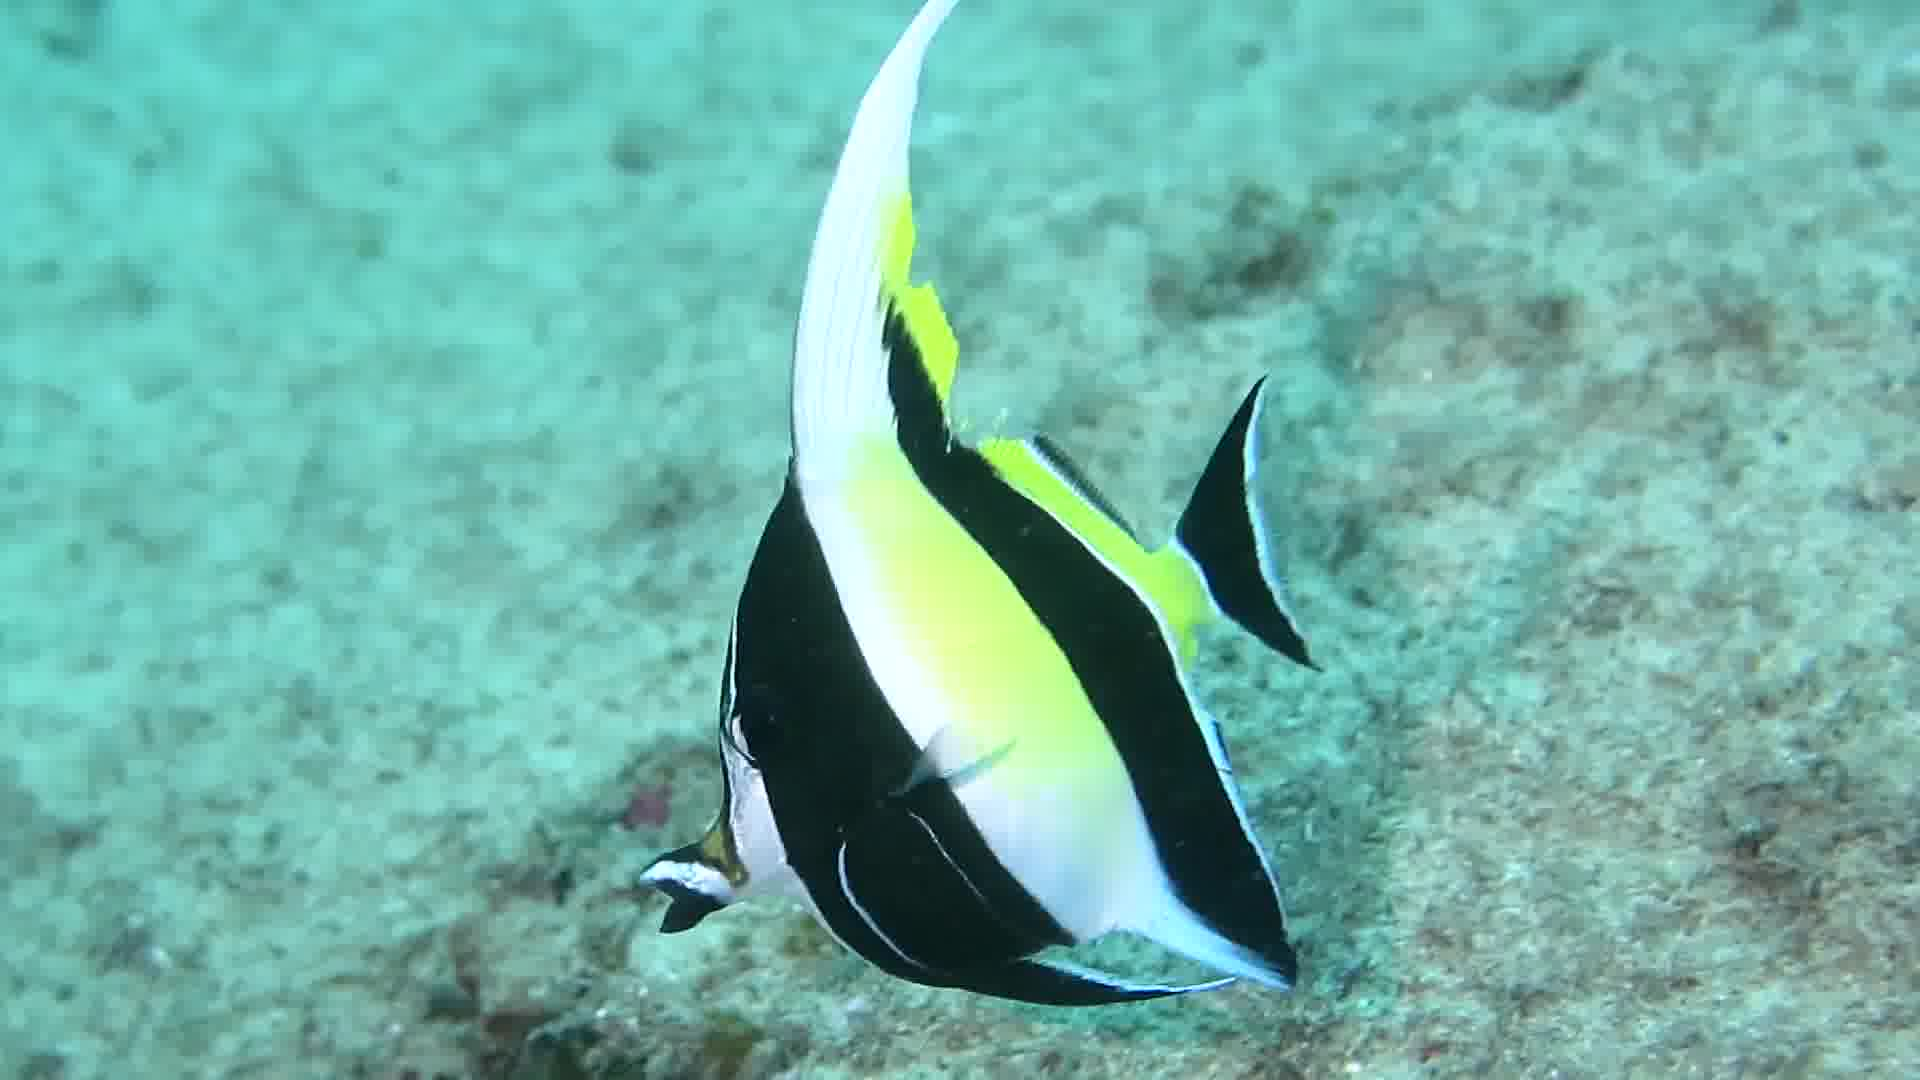Zanclus cornutus: (605, 276, 1375, 1043)
